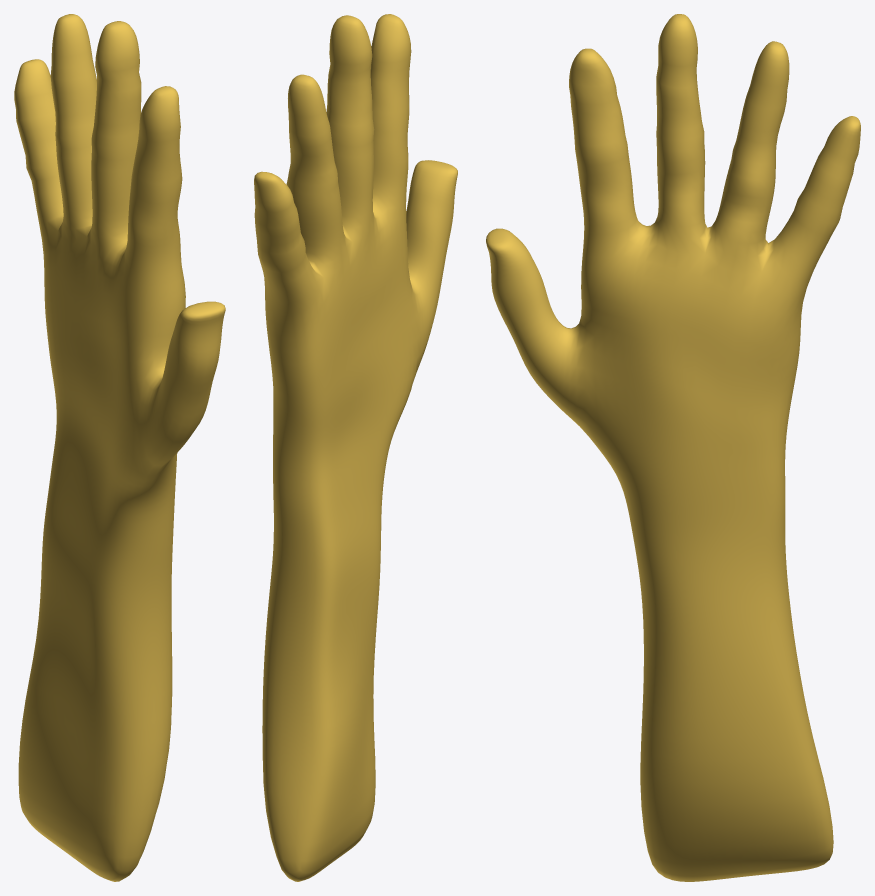
Rendered from RightHandBlue.fbx.
3 views of the same model, side by side, from view 1: azimuth 30°, elevation 25°; view 2: azimuth 150°, elevation 25°; view 3: azimuth 270°, elevation 25° (orthographic). The views are drawn at different scales.
Visible parts, largest first — view 1: RightHand; view 2: RightHand; view 3: RightHand.
Part boxes in pixels (box(x1,y1,x2,y2)): RightHand: box(14, 14, 225, 881); RightHand: box(254, 14, 457, 881); RightHand: box(486, 14, 860, 881).
Size of the model in its own units: 67.23 by 574 by 225.
